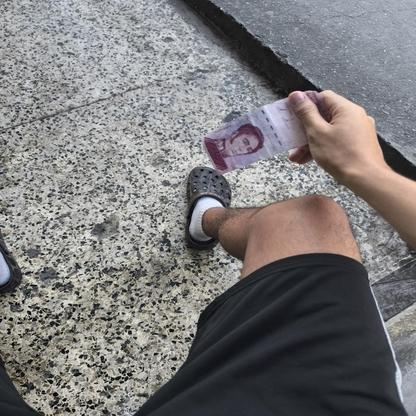one_hundred-front-vef: (201, 90, 331, 176)
